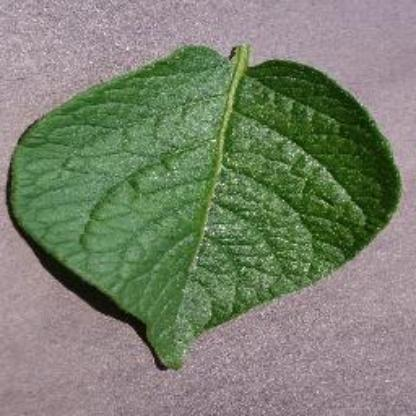Healthy-plant: (2, 38, 402, 374)
